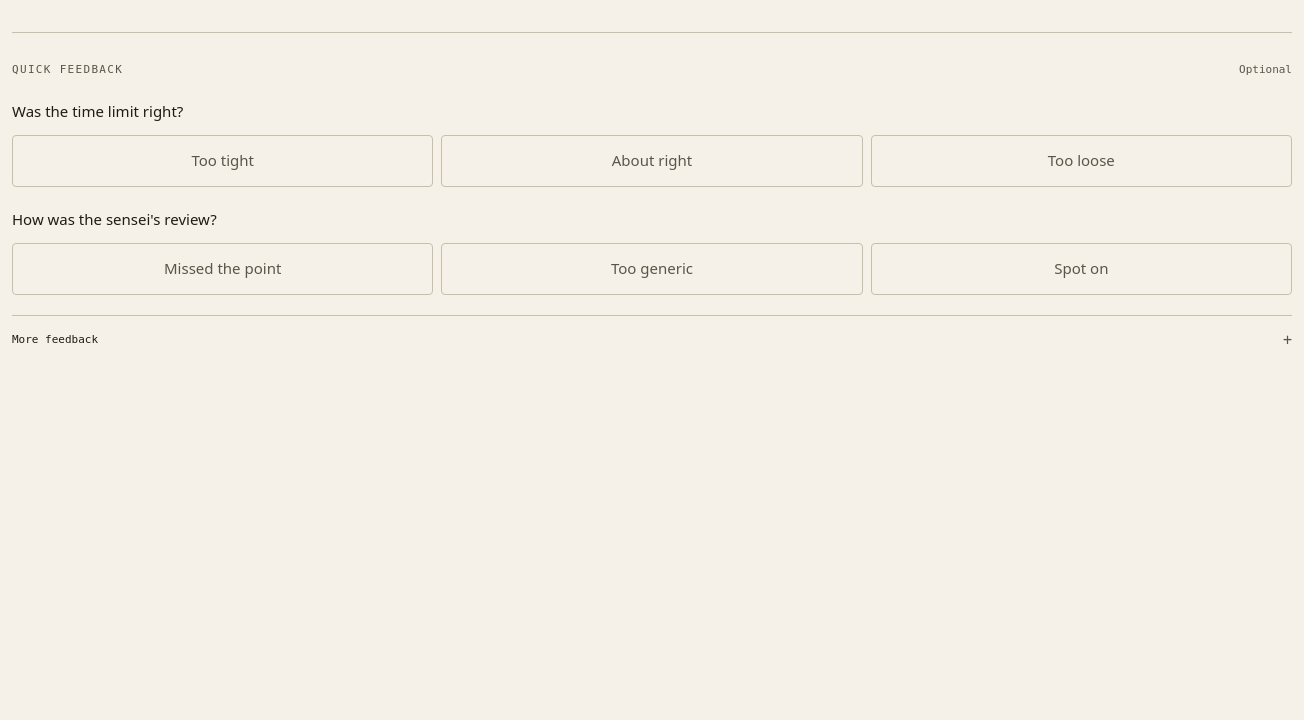
Test: FeedbackSection › keeps a note that failed to send and offers it again
The width and height of the screenshot is (1304, 720).
Click the text "More feedback" at x=55, y=340, box [12, 332, 98, 348]
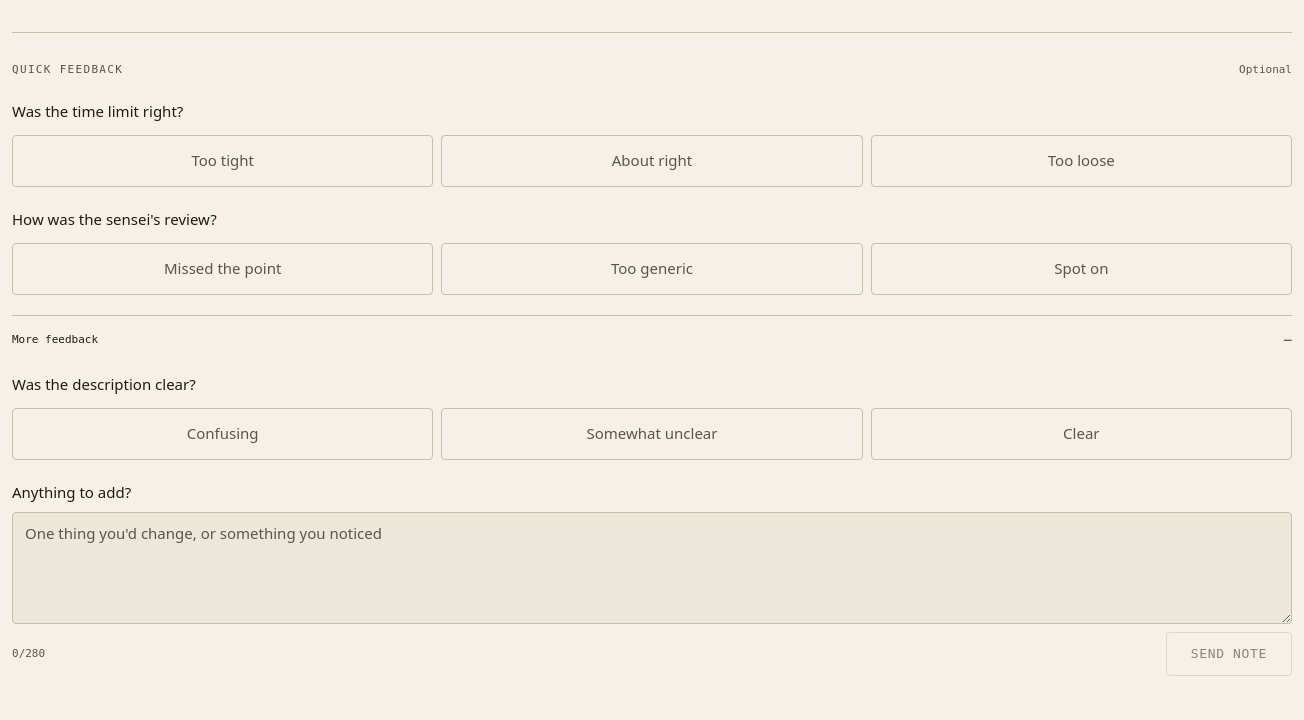
Type "a note" into the text box labelled "Anything to add?" at x=652, y=568, box [12, 512, 1292, 624]
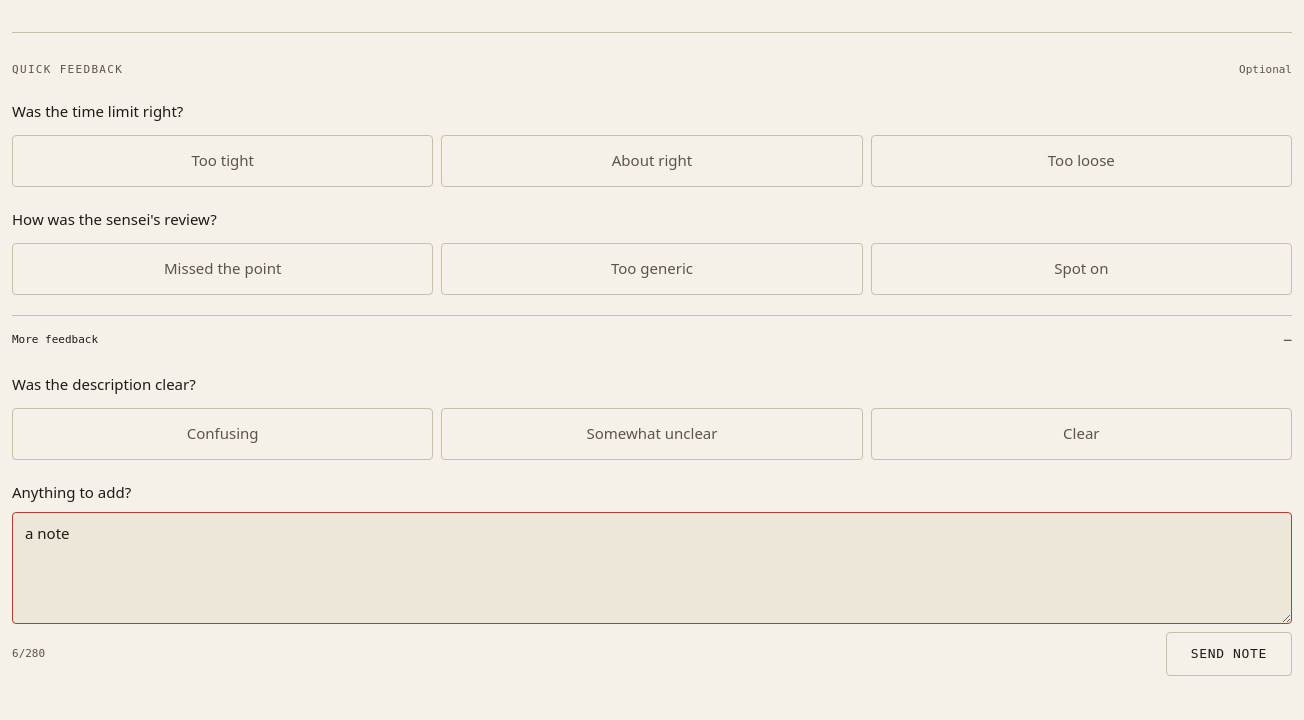
Click the button "Send note" at x=1229, y=654, box [1166, 632, 1292, 676]
(page scrolled)
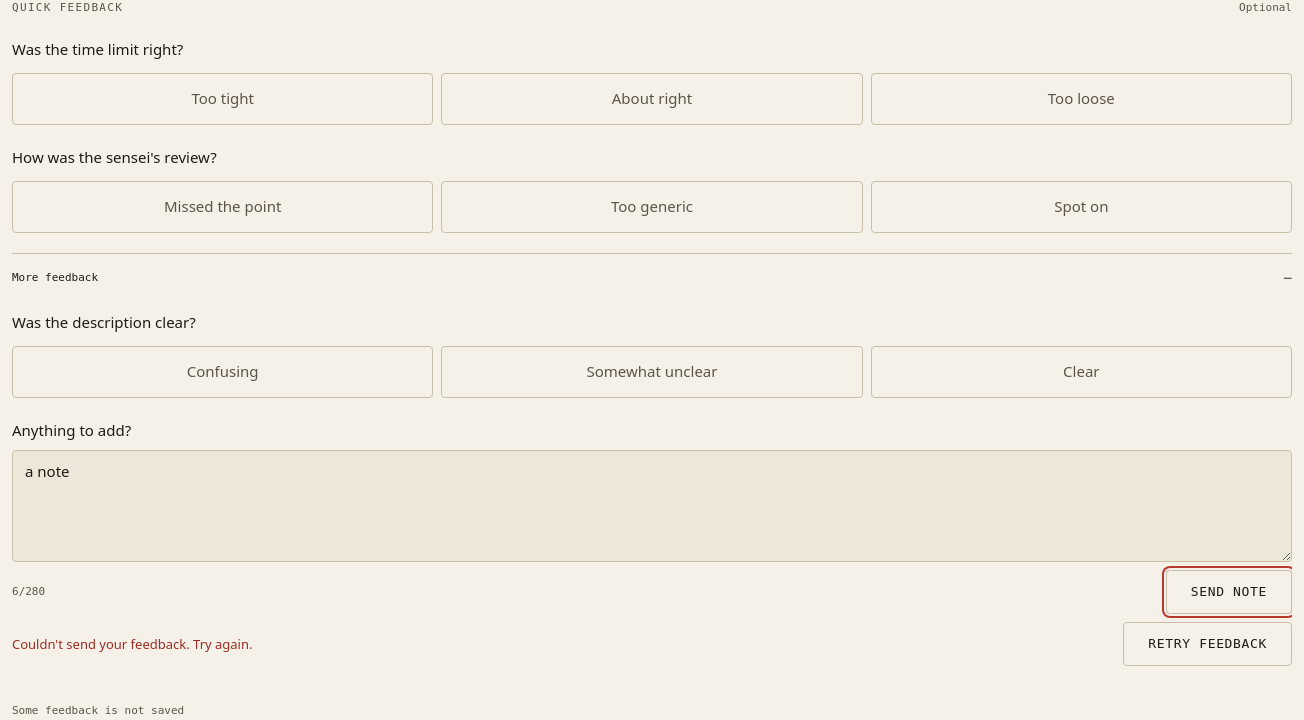
Expected: the message "Couldn't send your feedback. Try again." is shown, [12, 634, 252, 654]
Click the button "Retry feedback" at x=1208, y=644, box [1123, 622, 1292, 666]
(page scrolled)
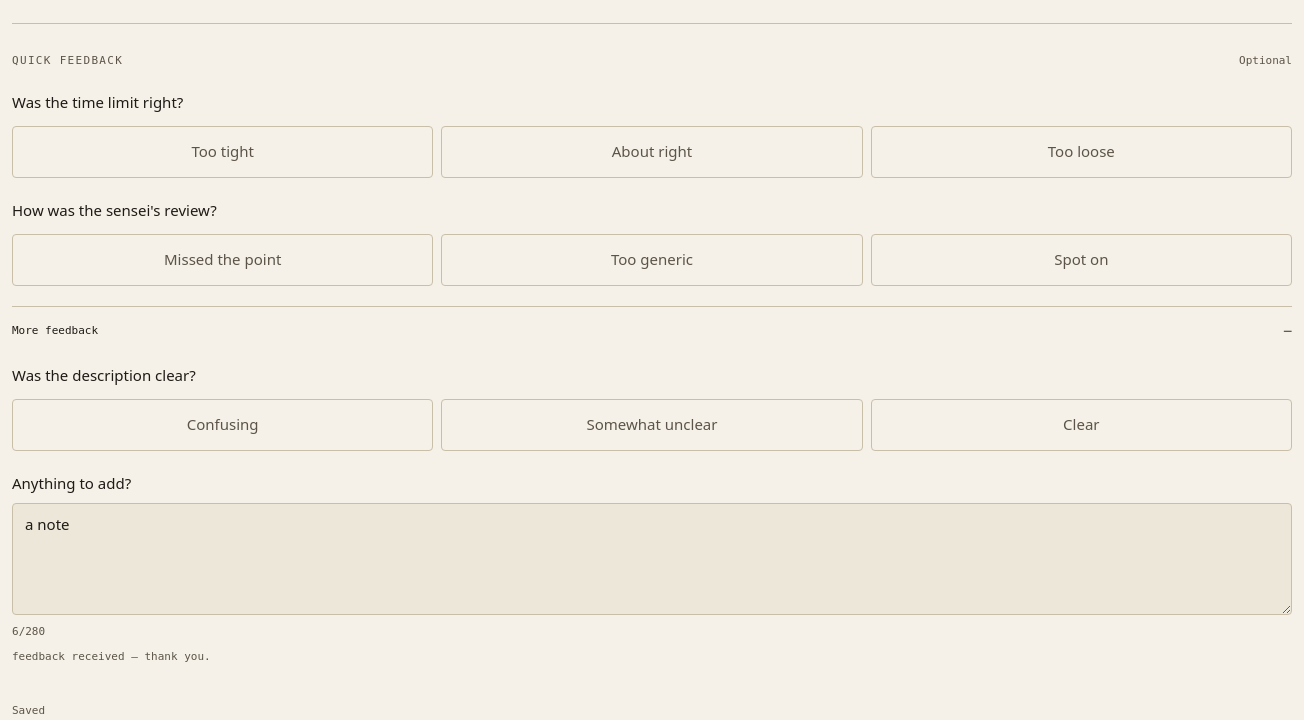
Expected: the text "feedback received — thank you." is shown, [12, 650, 211, 663]
